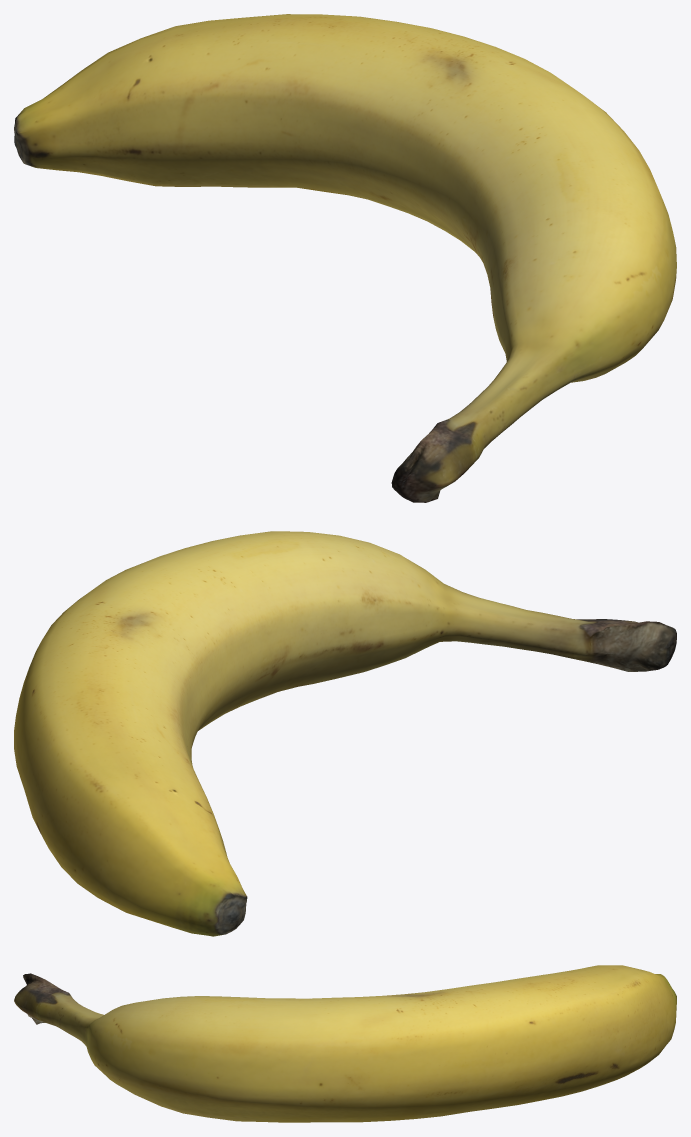
Rendered from banana.fbx.
The picture shows the model from 3 angles, top to bottom: view 1: azimuth 30°, elevation 25°; view 2: azimuth 150°, elevation 25°; view 3: azimuth 270°, elevation 25°; orthographic projection. The views are drawn at different scales.
Parts seen in each view (by area): view 1: Sub Banana LP; view 2: Sub Banana LP; view 3: Sub Banana LP.
Part boxes in pixels (bbox=[...]): Sub Banana LP: bbox=[14, 14, 676, 502]; Sub Banana LP: bbox=[14, 531, 676, 936]; Sub Banana LP: bbox=[14, 965, 676, 1122].
Size of the model in its own units: 420 by 167 by 765.
